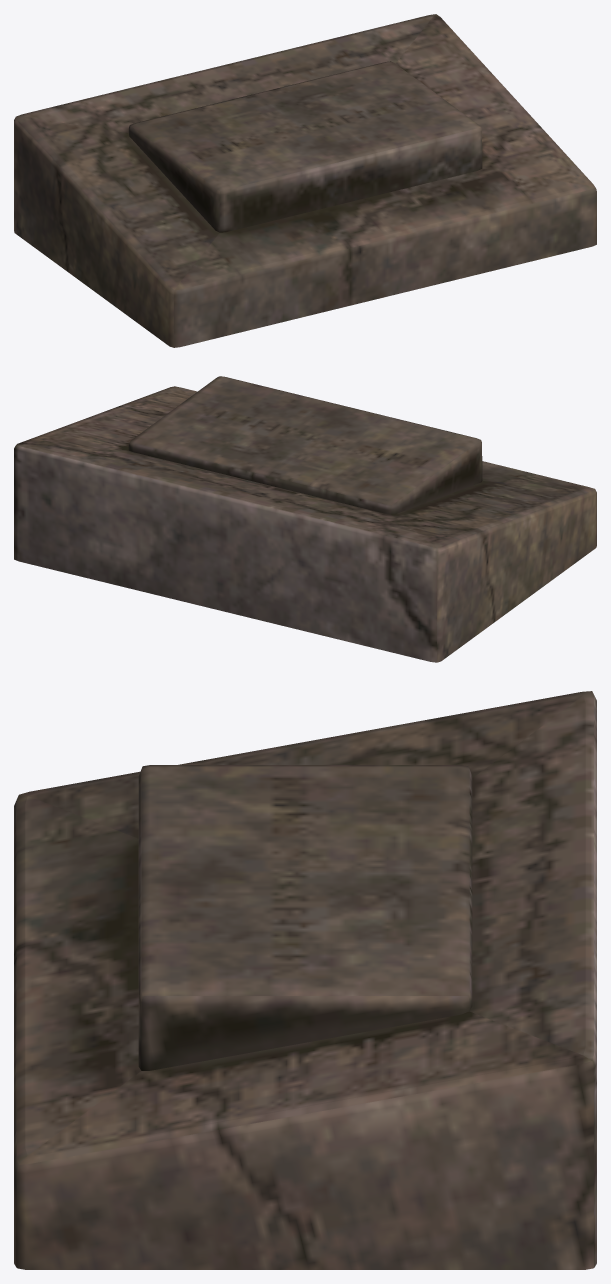
File: SM_tombstone_11.fbx
The picture shows the model from 3 angles, top to bottom: view 1: azimuth 30°, elevation 25°; view 2: azimuth 150°, elevation 25°; view 3: azimuth 270°, elevation 25°; orthographic projection. The views are drawn at different scales.
Visible parts, largest first — view 1: SM_tombstone_011; view 2: SM_tombstone_011; view 3: SM_tombstone_011.
Boxes of the visible parts, x1,y1,x2,y2 form: SM_tombstone_011: (14, 14, 596, 347); SM_tombstone_011: (14, 376, 596, 662); SM_tombstone_011: (14, 691, 596, 1269).
Bounding box in the file's own units: 61.03 × 15.7 × 40.04.
